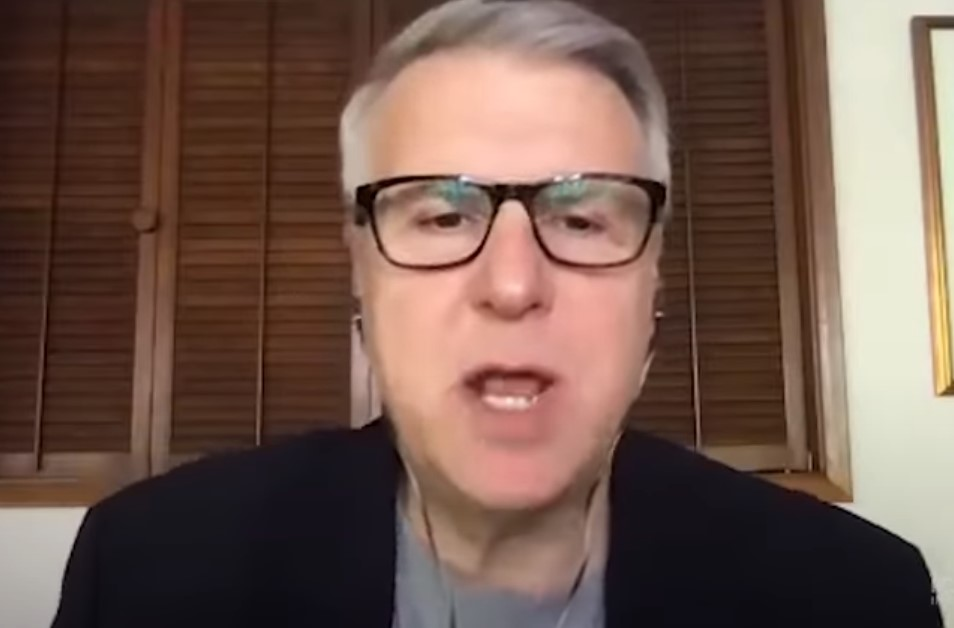face_no_mask: (353, 32, 665, 523)
